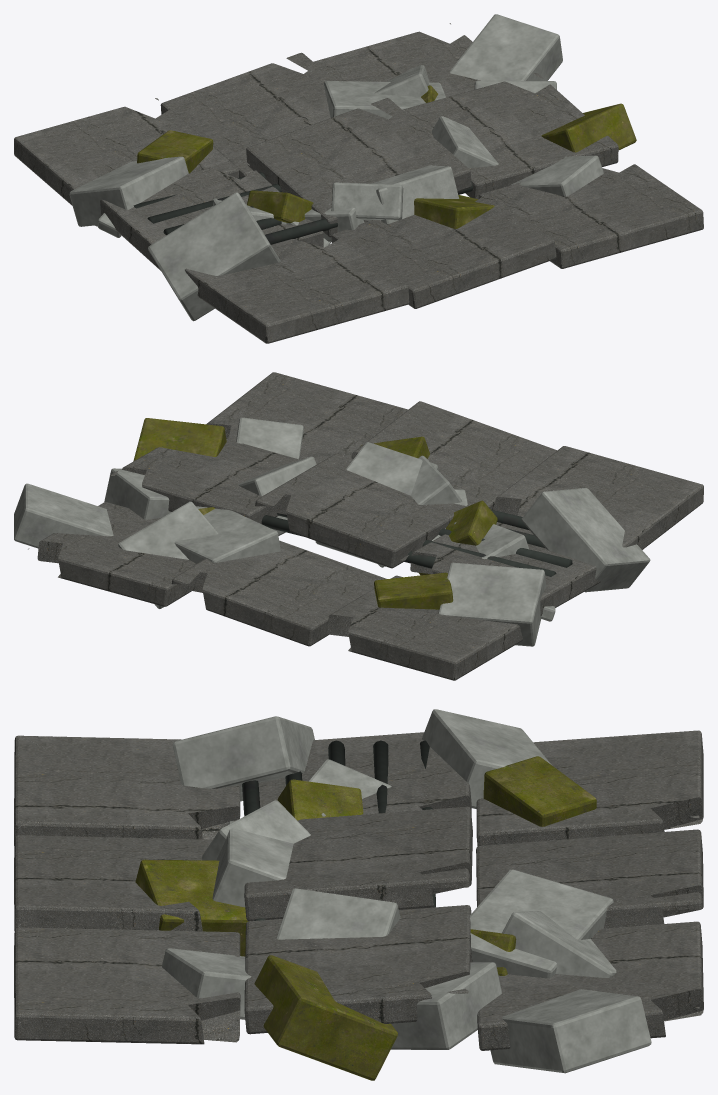
File: f3_v3_asphalt_heave.glb
The picture shows the model from 3 angles, top to bottom: view 1: azimuth 30°, elevation 25°; view 2: azimuth 150°, elevation 25°; view 3: azimuth 270°, elevation 25°; orthographic projection. The views are drawn at different scales.
Parts seen in each view (by area): view 1: f3_broken_asphalt_surface, f3_exposed_aggregate_surface, f3_damp_concrete_surface, f3_deep_crack_surface; view 2: f3_broken_asphalt_surface, f3_exposed_aggregate_surface, f3_damp_concrete_surface, f3_deep_crack_surface; view 3: f3_broken_asphalt_surface, f3_exposed_aggregate_surface, f3_damp_concrete_surface, f3_deep_crack_surface.
Boxes of the visible parts, left/top/right/bottom form: f3_broken_asphalt_surface: left=14, top=23, right=703, bottom=343; f3_exposed_aggregate_surface: left=69, top=14, right=603, bottom=321; f3_damp_concrete_surface: left=137, top=85, right=636, bottom=228; f3_deep_crack_surface: left=133, top=172, right=472, bottom=244; f3_broken_asphalt_surface: left=28, top=372, right=703, bottom=680; f3_exposed_aggregate_surface: left=14, top=417, right=650, bottom=646; f3_damp_concrete_surface: left=133, top=418, right=497, bottom=609; f3_deep_crack_surface: left=261, top=509, right=572, bottom=576; f3_broken_asphalt_surface: left=14, top=730, right=703, bottom=1050; f3_exposed_aggregate_surface: left=162, top=709, right=651, bottom=1073; f3_damp_concrete_surface: left=135, top=756, right=596, bottom=1080; f3_deep_crack_surface: left=242, top=740, right=435, bottom=920.
Bounding box in the file's own units: 4.37 × 0.7868 × 3.73.
Materials: 4 (4 with a texture image).
